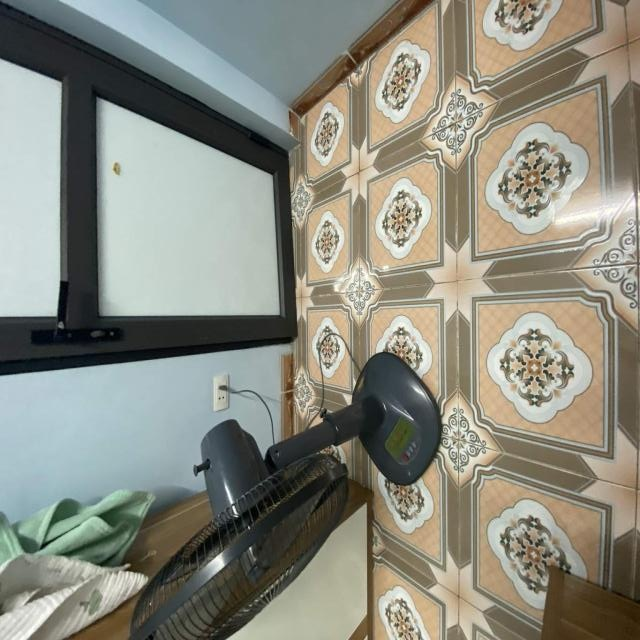outlet: (213, 374, 229, 412)
